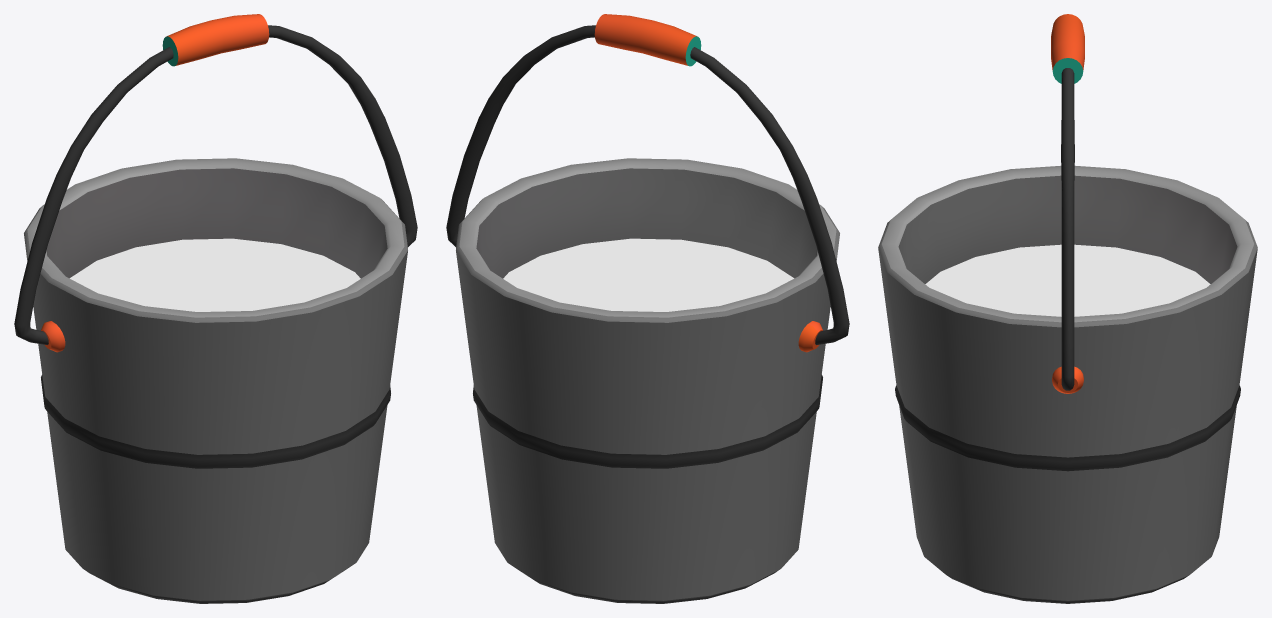
File: Shove.fbx
The picture shows the model from 3 angles, left to right: view 1: azimuth 30°, elevation 25°; view 2: azimuth 150°, elevation 25°; view 3: azimuth 270°, elevation 25°; orthographic projection.
Visible parts, largest first — view 1: Shove; view 2: Shove; view 3: Shove.
Boxes of the visible parts, x1,y1,x2,y2 form: Shove: (14, 14, 417, 603); Shove: (446, 14, 849, 603); Shove: (878, 14, 1257, 603).
Bounding box in the file's own units: 159 × 198 × 133.
